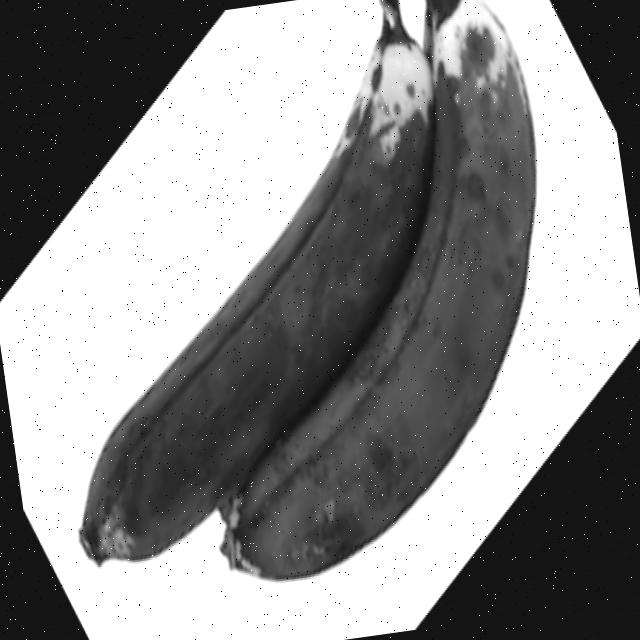Rotten: (4, 0, 494, 572)
